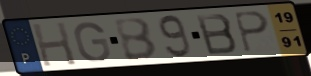9: (158, 13, 195, 61)
B: (111, 16, 160, 62), (194, 12, 240, 57)
G: (72, 20, 113, 64)
H: (29, 20, 79, 68)
P: (231, 10, 272, 55)
